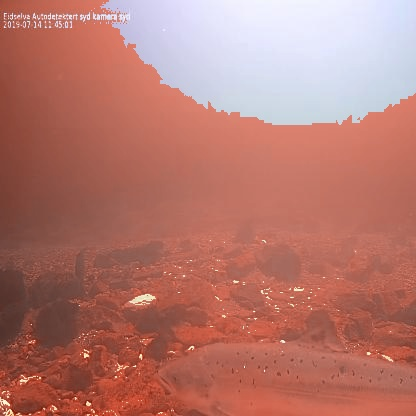salmon: (152, 316, 416, 416)
